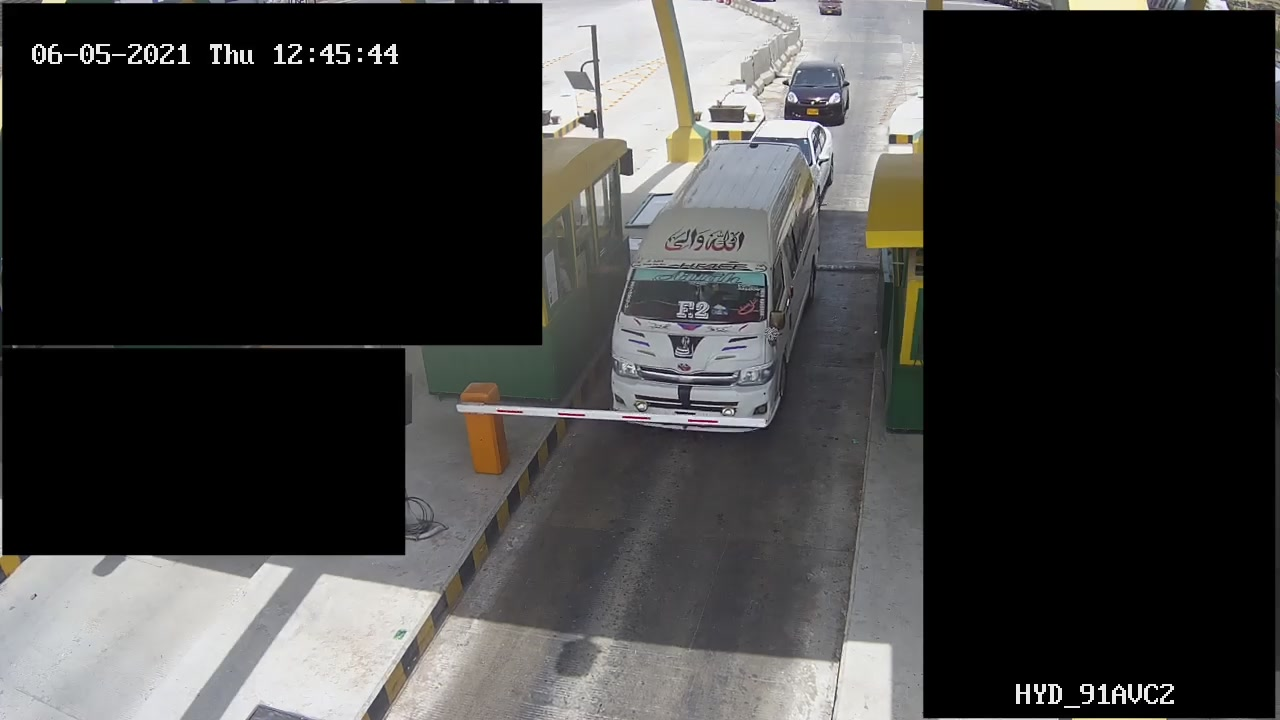F2: (600, 134, 832, 434)
